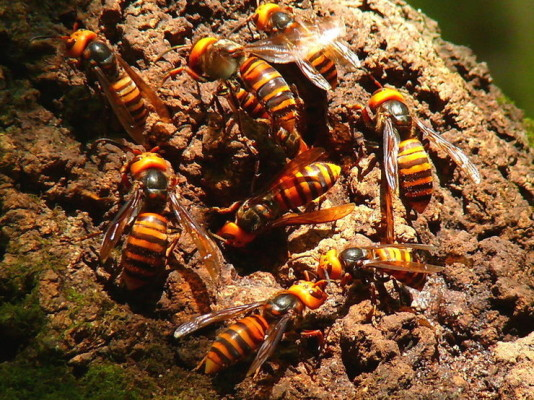asian_giant_hornet: (199, 272, 334, 380), (208, 144, 344, 249), (154, 30, 301, 124), (53, 18, 166, 138), (112, 144, 184, 299), (356, 82, 436, 214), (245, 1, 352, 96), (228, 79, 317, 164), (318, 243, 441, 291)
